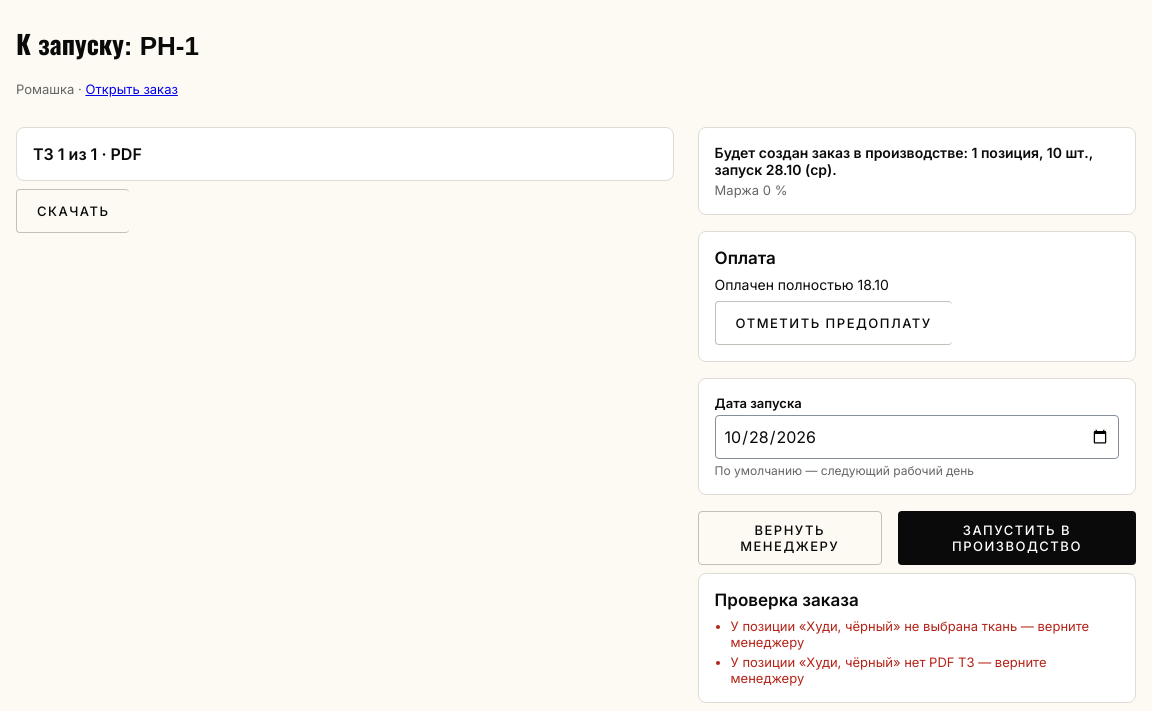
Scenario: LaunchScreen › отказ запуска — шаг и причина role=alert с фокусом
The width and height of the screenshot is (1152, 711).
Click the button "Запустить в производство" at (1017, 538), box [898, 511, 1136, 565]
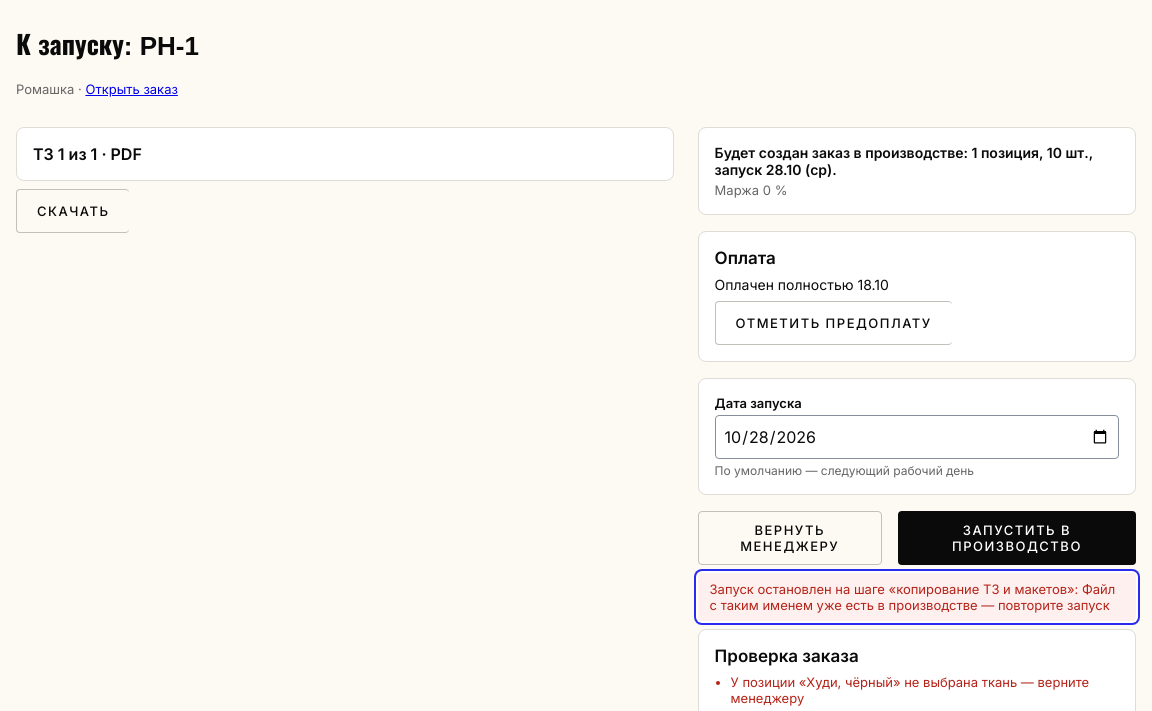
Check: the message shows "уже есть в производстве", box [710, 581, 1115, 613]
Check: the message shows "на шаге «копирование ТЗ и макетов»", box [710, 581, 1115, 613]
